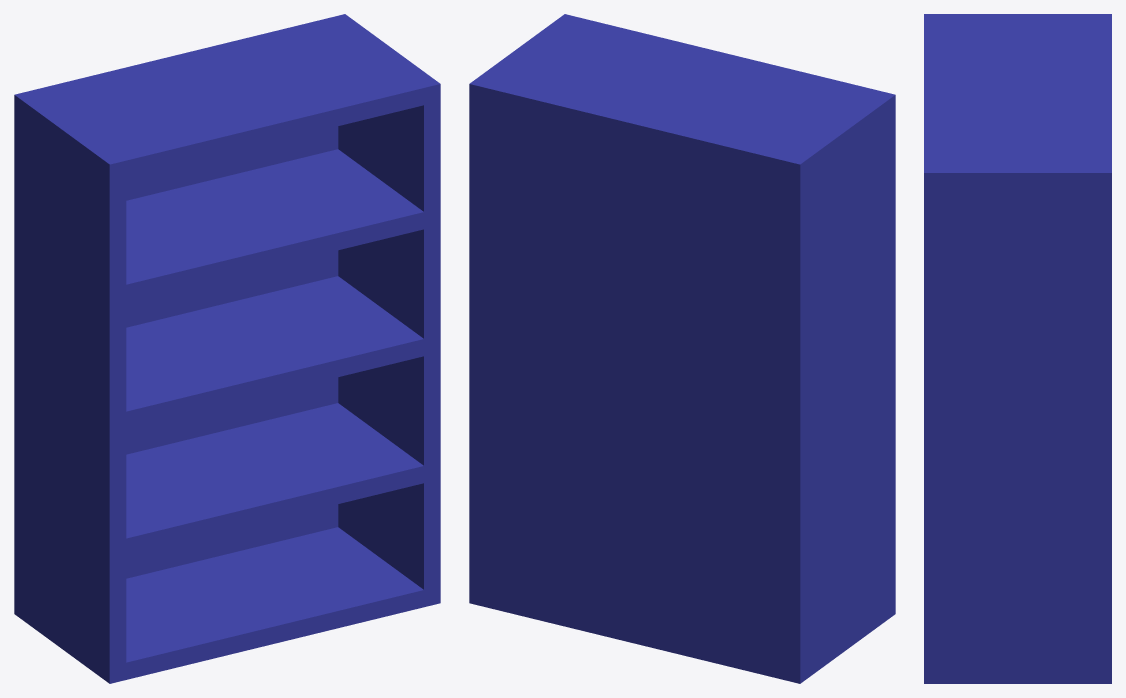
File: storageF_1x3x2.FBX
3 views of the same model, side by side, from view 1: azimuth 30°, elevation 25°; view 2: azimuth 150°, elevation 25°; view 3: azimuth 270°, elevation 25° (orthographic).
Visible parts, largest first — view 1: storageF_1x3x2; view 2: storageF_1x3x2; view 3: storageF_1x3x2.
Boxes of the visible parts, left/top/right/bottom form: storageF_1x3x2: left=14, top=14, right=440, bottom=683; storageF_1x3x2: left=469, top=14, right=895, bottom=683; storageF_1x3x2: left=924, top=14, right=1111, bottom=683.
Size of the model in its own units: 2 by 3 by 1.
